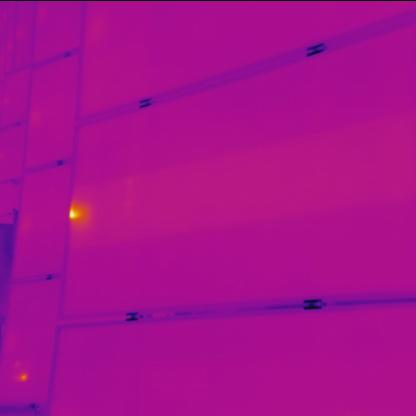hotspot: (69, 201, 81, 225)
